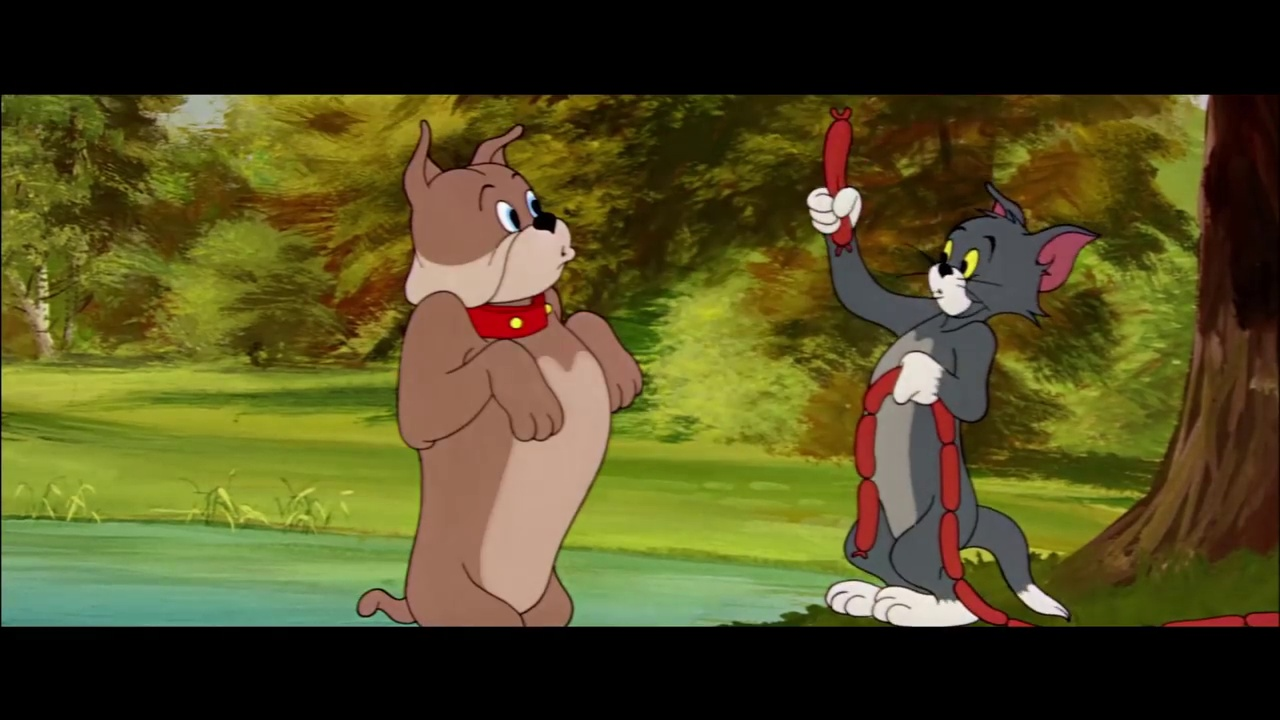spike: (397, 119, 587, 342)
tom: (910, 175, 1105, 331)
